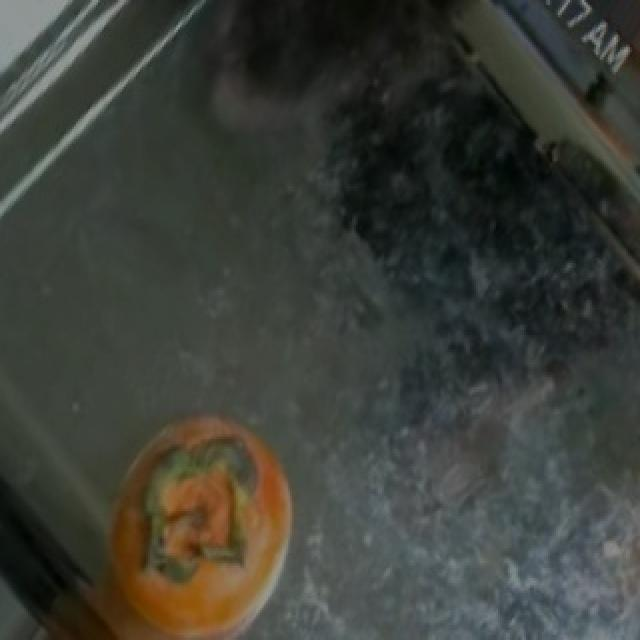Fruit: (68, 387, 314, 633)
